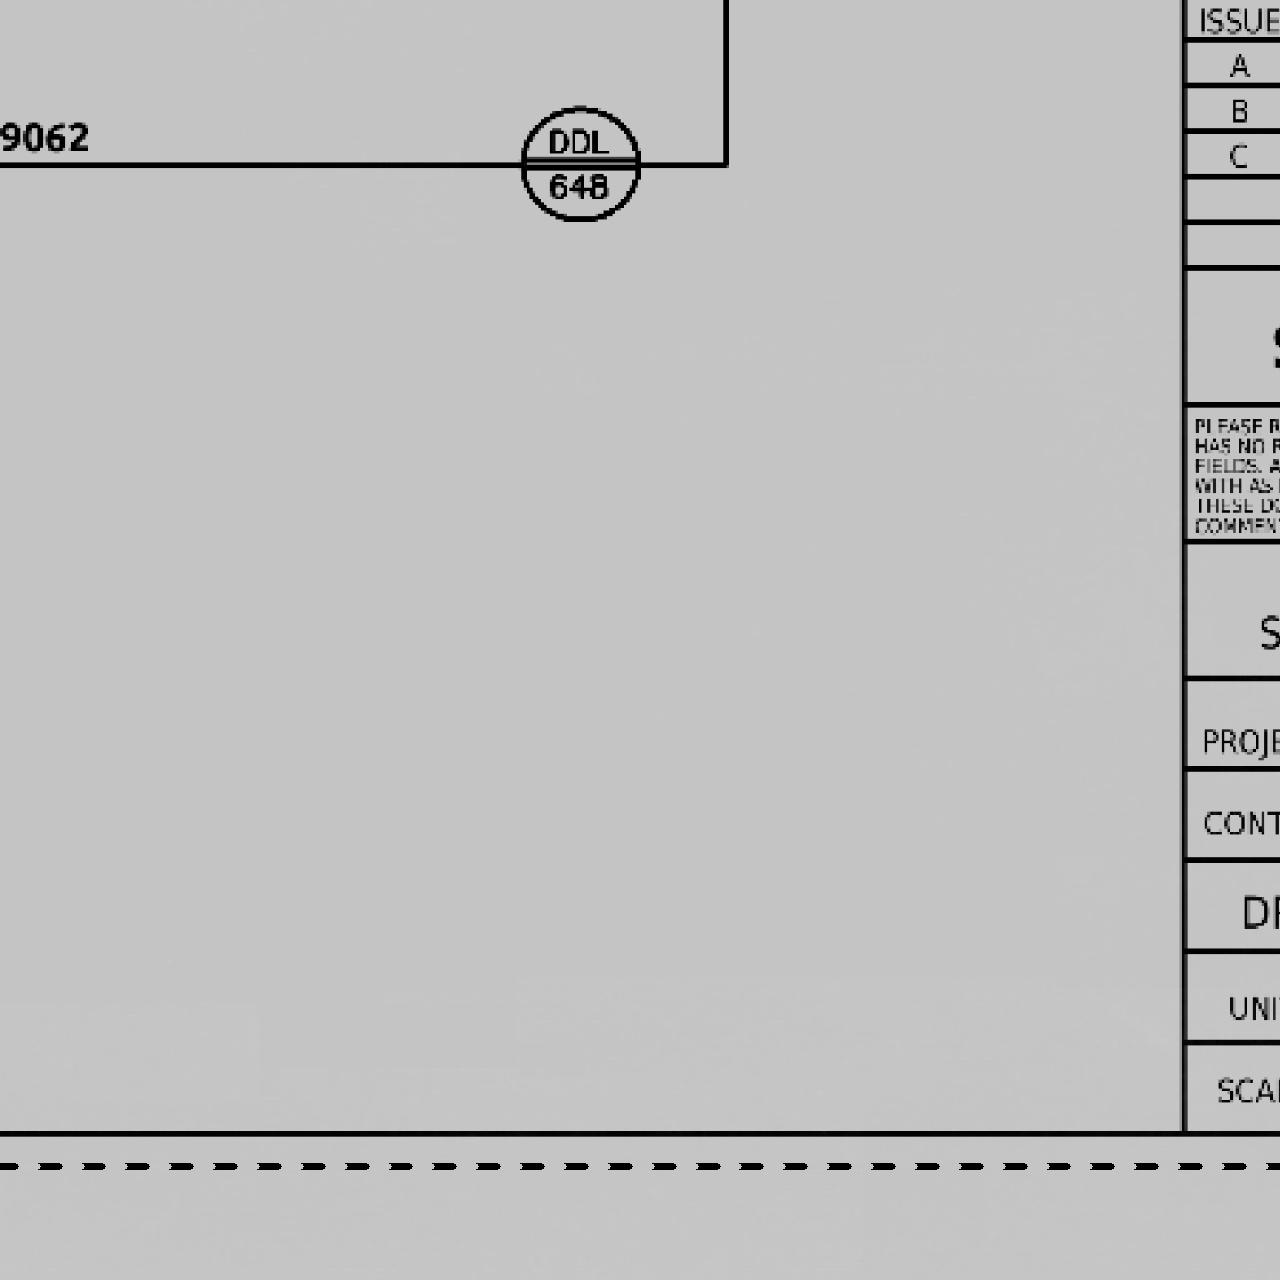Control-Panel: (515, 98, 644, 229)
